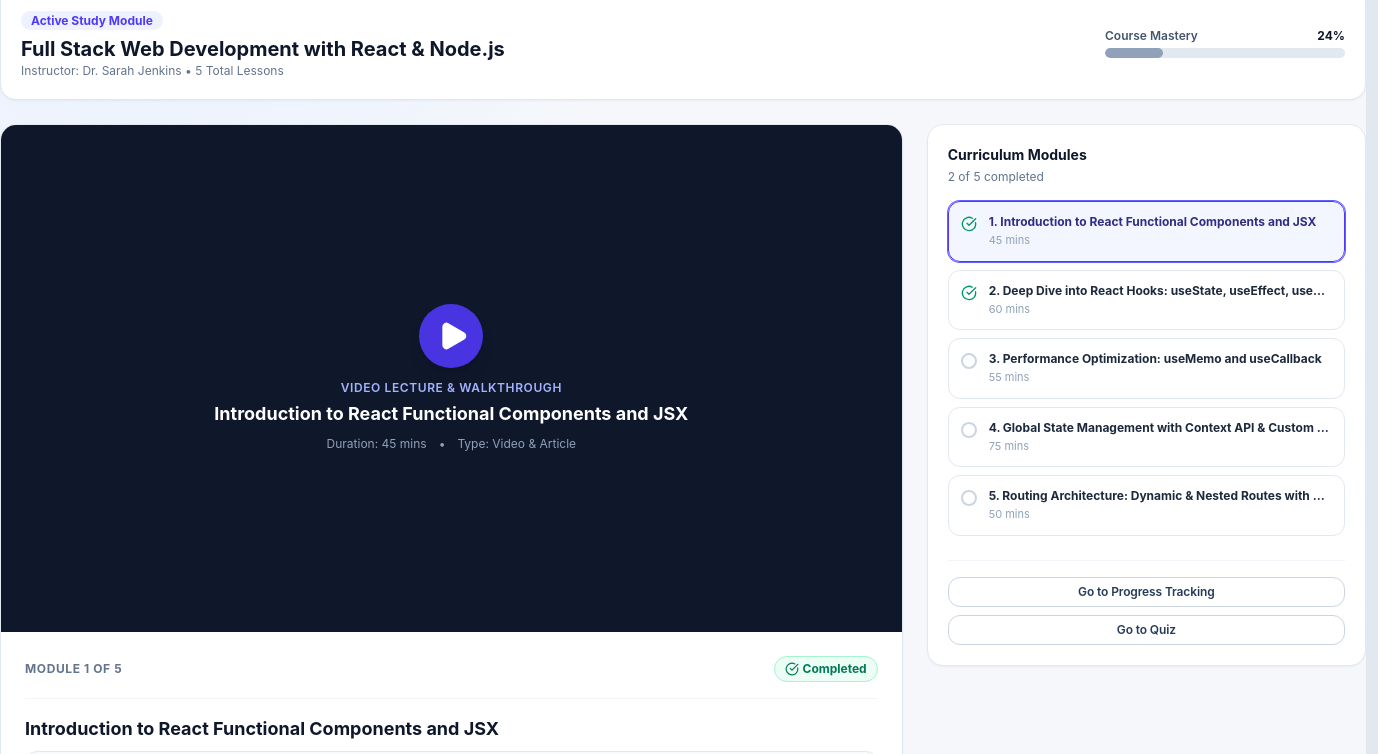
it: learning materials update real course progress and persist lesson completion
Expected: the heading "Full Stack Web Development with React & Node.js" is shown, 21,35 -> 505,63
Click the button "3. Performance Optimization: useMemo and useCallback 55 mins": coordinates (1146, 368) 948,338 -> 1345,398
(page scrolled)
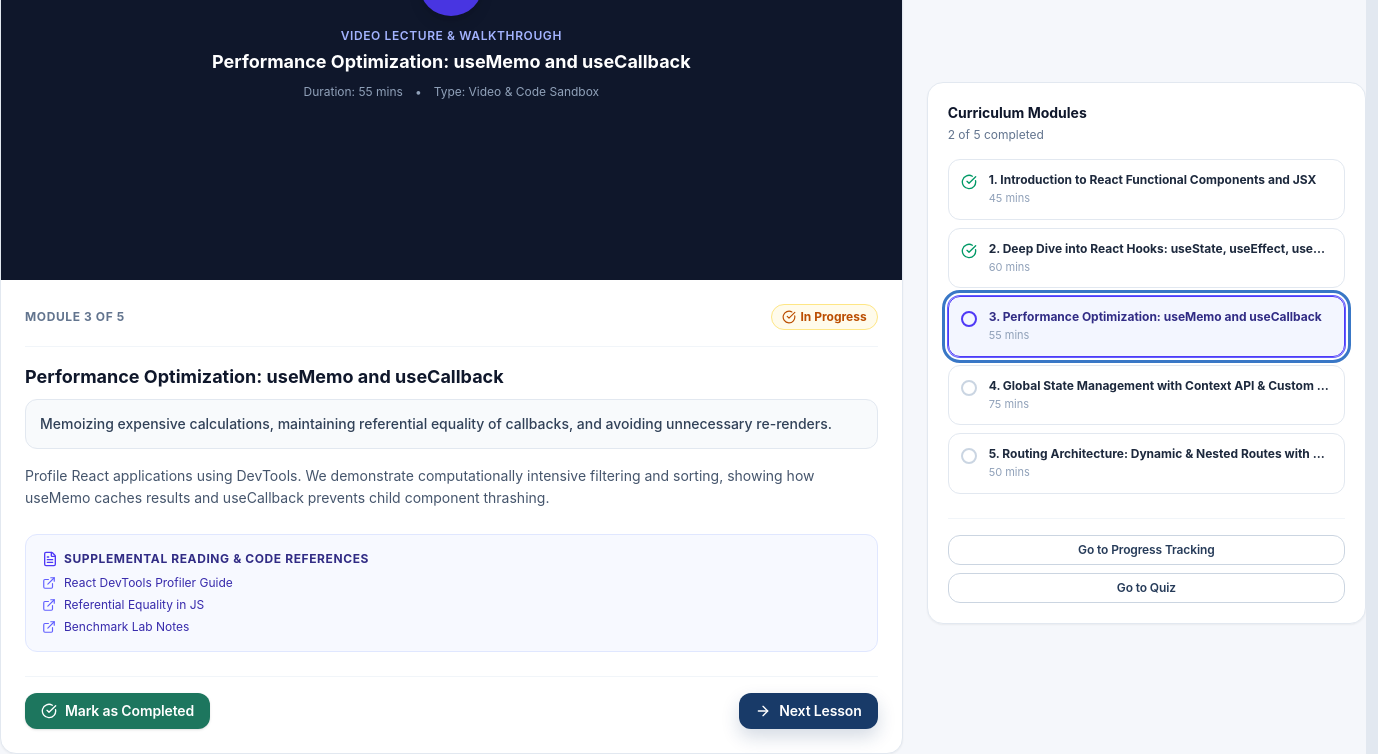
Click the button "Mark as Completed": coordinates (118, 711) 25,693 -> 210,729
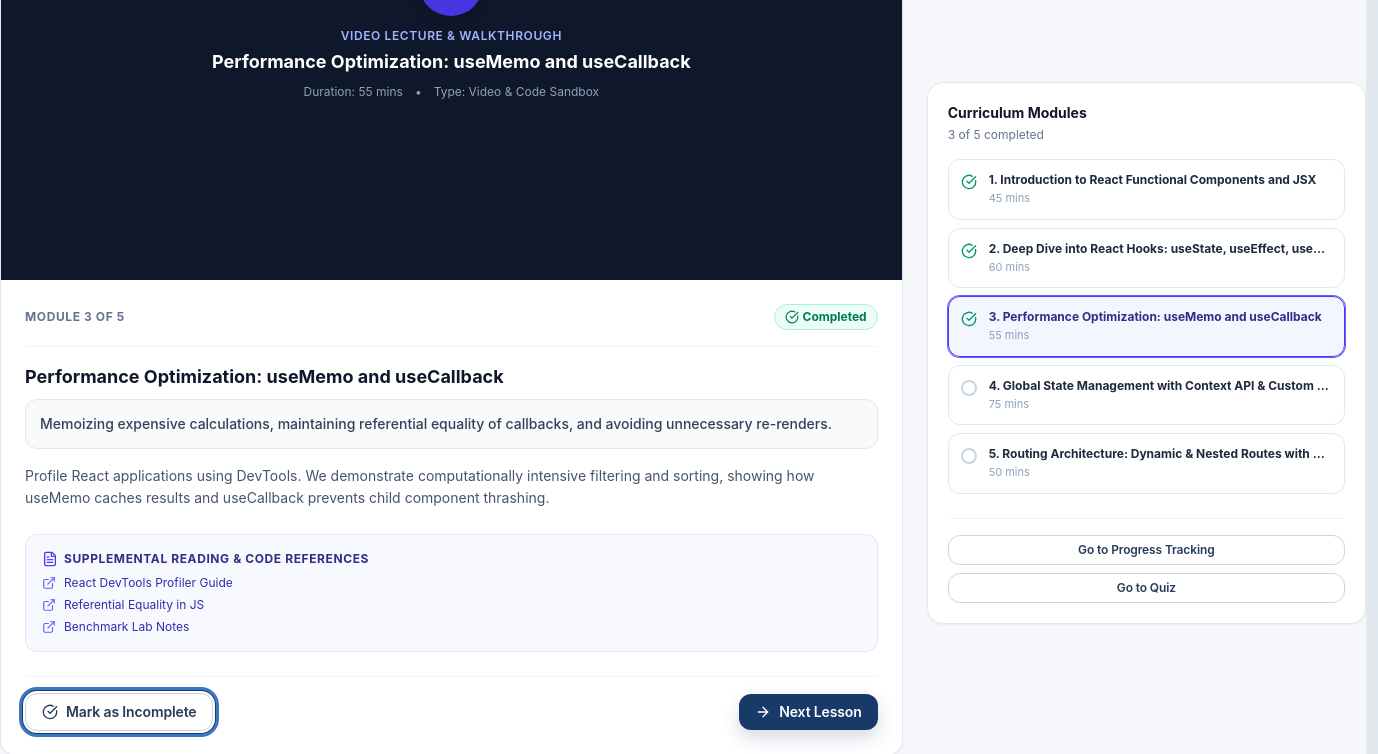
Now the text "Completed" is shown, box 774,304 -> 878,330
